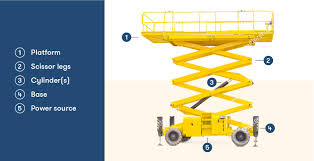Scissor Lift: (141, 10, 276, 147)
